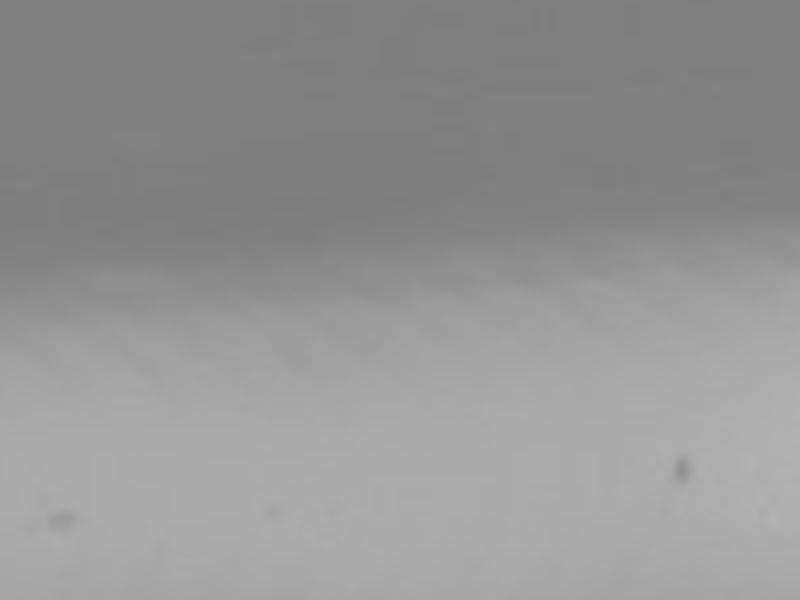defect: (673, 449, 697, 489), (46, 509, 77, 534), (265, 499, 285, 522)
